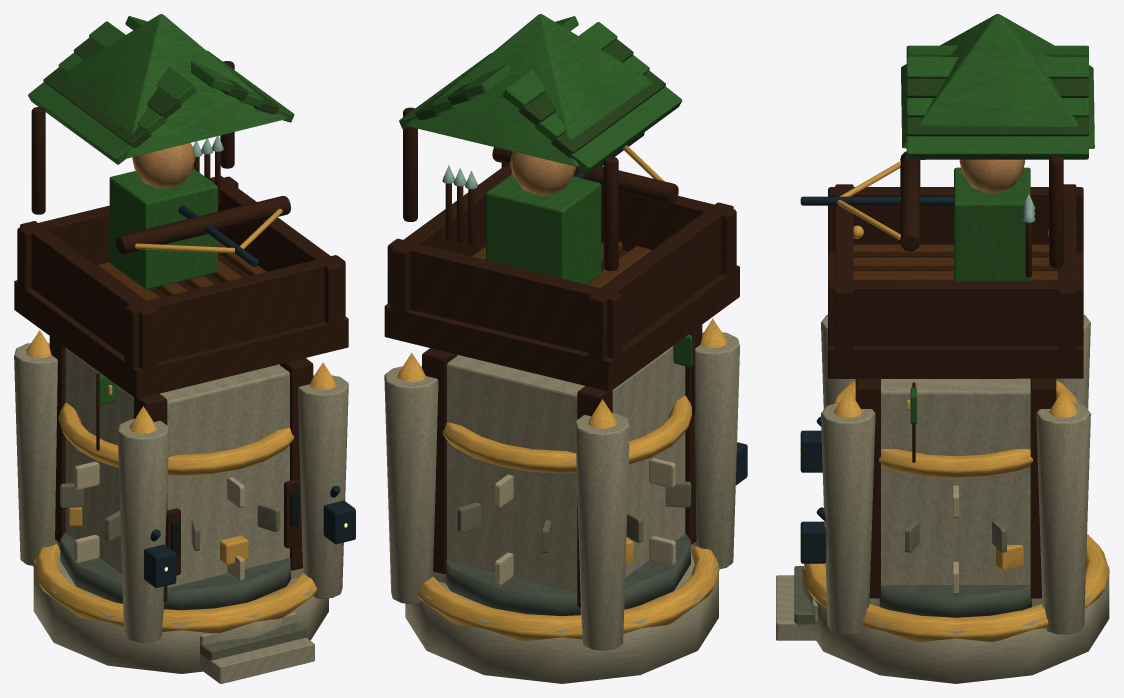
Rendered from tower-arrow-3-base.glb.
3 renders of one model, left to right at view 1: azimuth 30°, elevation 25°; view 2: azimuth 150°, elevation 25°; view 3: azimuth 270°, elevation 25°, orthographic. The views are drawn at different scales.
Parts seen in each view (by area): view 1: Turret, Foundation, arrow-L3-base; view 2: Turret, Foundation, arrow-L3-base; view 3: Turret, Foundation, arrow-L3-base.
Part boxes in pixels (box(x1,y1,x2,y2)): Turret: box(14, 14, 348, 398); Foundation: box(14, 330, 355, 683); arrow-L3-base: box(33, 533, 328, 673); Turret: box(384, 14, 739, 391); Foundation: box(384, 318, 747, 650); arrow-L3-base: box(405, 534, 718, 683); Turret: box(800, 14, 1094, 378); Foundation: box(776, 314, 1109, 641); arrow-L3-base: box(802, 563, 1109, 683).
Bounding box in the file's own units: 1.69 × 3.66 × 1.83.
17 materials, 17 textured.
